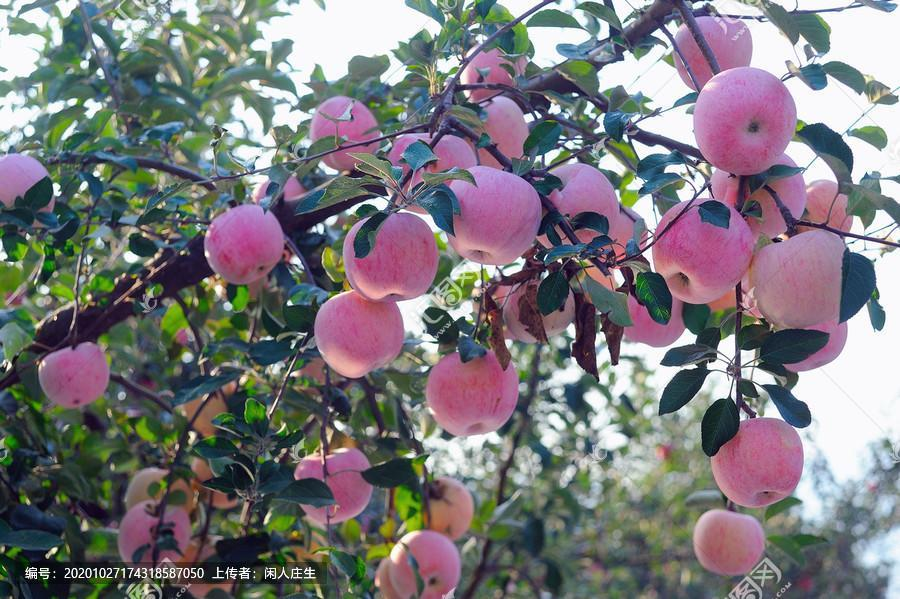apple: (692, 65, 797, 174), (651, 196, 753, 305), (444, 162, 544, 268), (752, 230, 851, 328), (339, 210, 440, 305), (709, 416, 804, 507), (313, 292, 408, 379), (426, 349, 520, 436), (538, 160, 624, 251), (392, 130, 477, 214), (201, 203, 285, 287), (292, 447, 376, 523), (385, 528, 463, 597), (37, 342, 116, 409), (694, 505, 764, 577)
